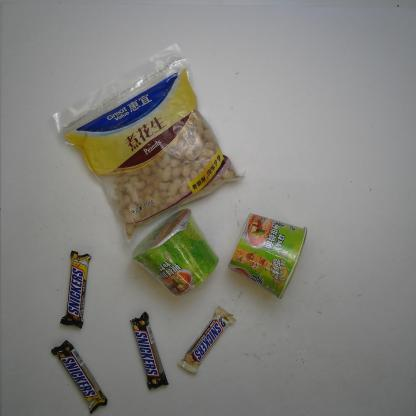Chocolate: (49, 340, 108, 412), (177, 306, 236, 373), (128, 313, 168, 390), (60, 249, 92, 328)
Dried Food: (65, 65, 242, 238)
Instant Noodles: (131, 207, 220, 296), (228, 212, 308, 298)
